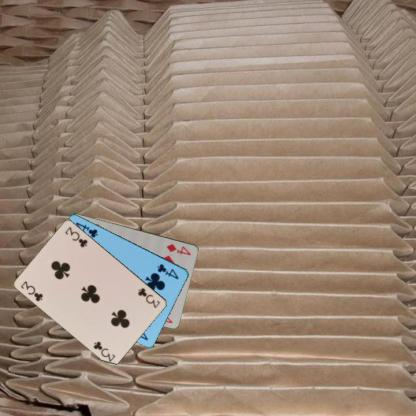3c: (18, 278, 44, 303), (135, 286, 161, 309)
4c: (155, 261, 180, 280)
4d: (164, 241, 192, 256)
